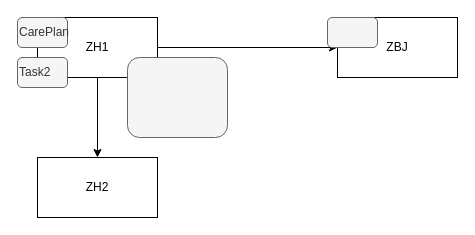
Some shapes in this 475 by 235 pixel diagram are drawn without their labels. The shapes that lost their labels are listed below. From the top down, each one's box as (x1, y1, x2, y2) in pixels, then its label:
(326, 16, 378, 48): Task1
(126, 56, 228, 138): consent over ZH2, ZH1, ZBJ voor: ZBJ, ZH1, ZH2
